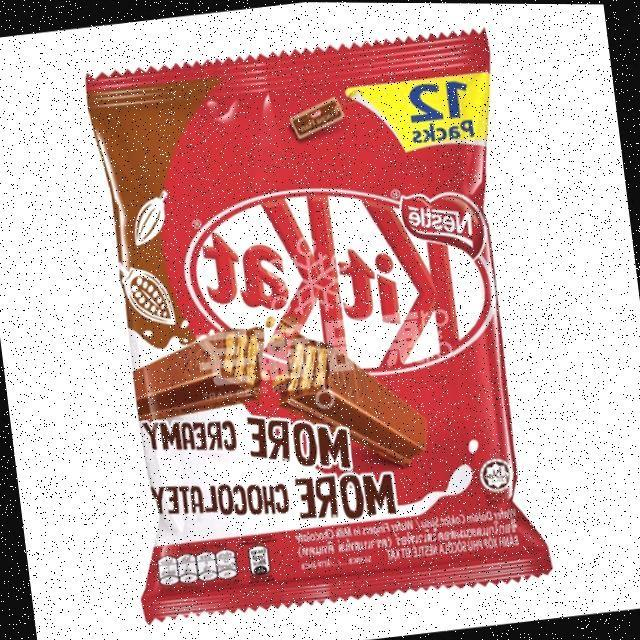kitkat_chocolate: (123, 120, 510, 580)
